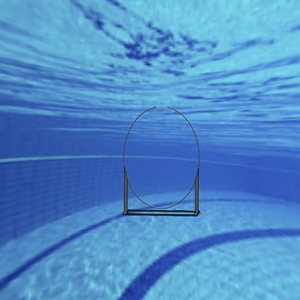circle: (121, 103, 201, 218)
